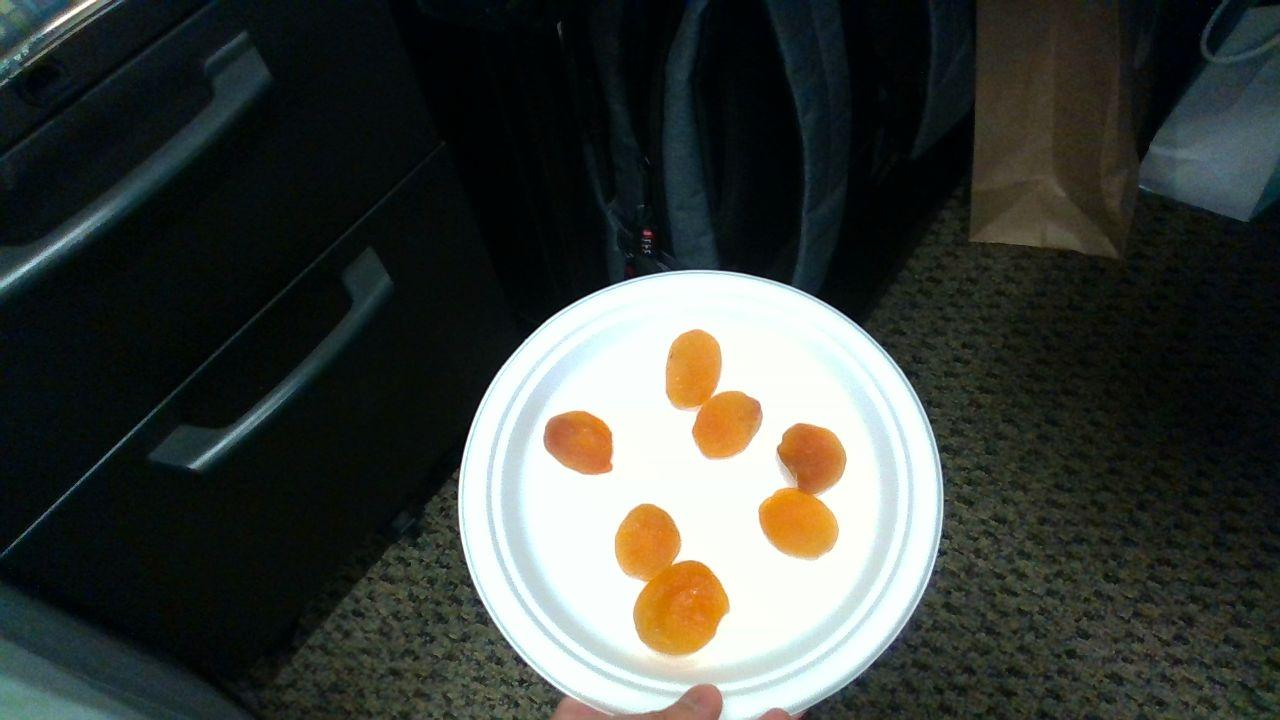apricot: (633, 560, 730, 654), (759, 489, 839, 559), (778, 423, 847, 494), (616, 505, 681, 579), (692, 391, 762, 458), (666, 329, 722, 409), (545, 411, 614, 475)
plate: (458, 270, 943, 720)
